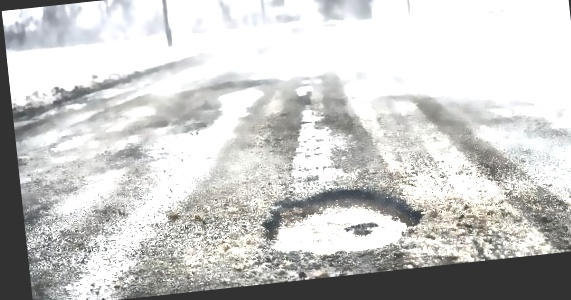pothole: (255, 175, 431, 263)
